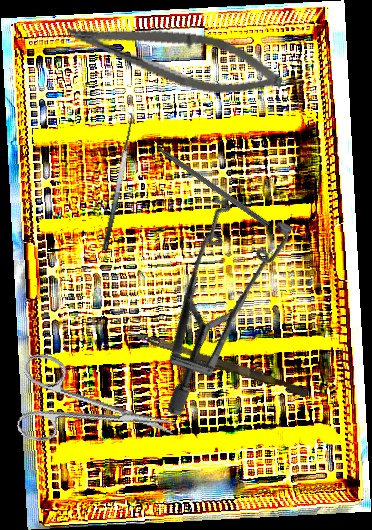Hook Surgical: (140, 133, 272, 228)
Iris Scissors: (8, 351, 185, 473)
Micro Scissor: (60, 10, 288, 106)
Pusher: (125, 329, 310, 398)
Spatula Surgical: (90, 110, 140, 252)
Speculum: (83, 169, 346, 420)
